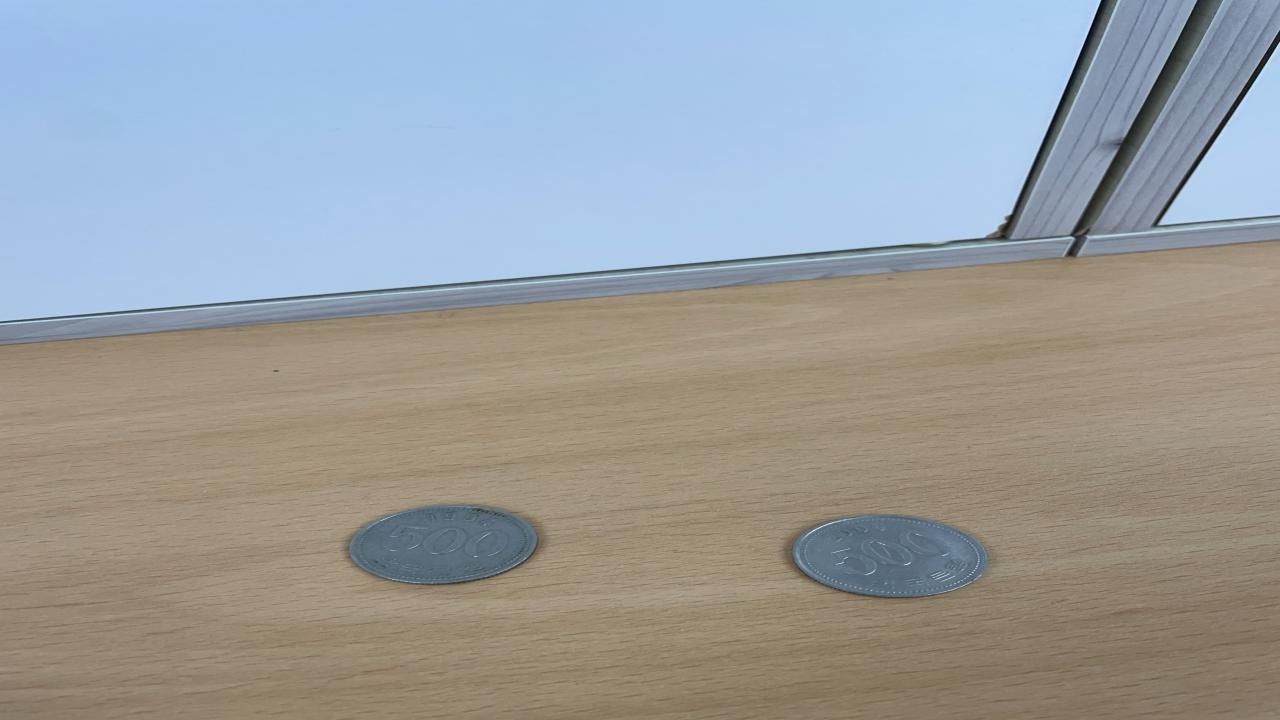coin: (790, 512, 994, 600), (344, 504, 539, 586)
